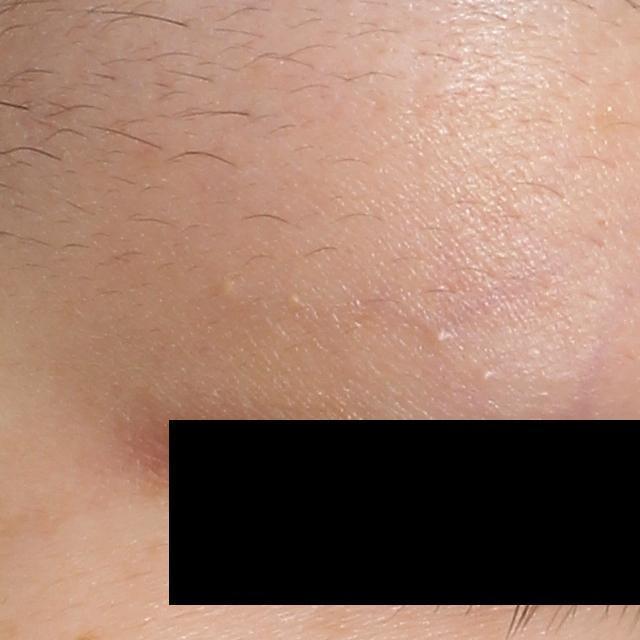other: (217, 278, 235, 301)
